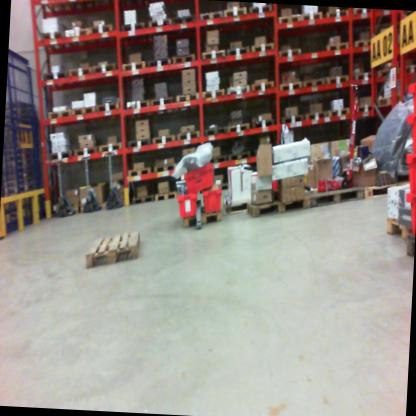pallet: (84, 222, 143, 281), (245, 189, 310, 225), (301, 179, 364, 214), (359, 168, 407, 208), (224, 115, 273, 137), (35, 26, 69, 56), (179, 210, 224, 230), (173, 89, 200, 119), (38, 65, 68, 92), (148, 90, 174, 121), (124, 94, 152, 122), (94, 97, 122, 125), (60, 22, 88, 50), (67, 100, 100, 123), (221, 193, 249, 220), (375, 89, 409, 111), (36, 0, 77, 18), (85, 21, 117, 44), (169, 48, 198, 73), (383, 212, 406, 243), (199, 85, 227, 110), (274, 109, 305, 131), (66, 60, 92, 85), (371, 66, 405, 85), (89, 59, 117, 82), (323, 34, 349, 58), (144, 54, 174, 74), (225, 43, 251, 66), (45, 102, 72, 124), (116, 17, 147, 36), (325, 104, 354, 124), (249, 77, 275, 99), (171, 12, 199, 32), (279, 44, 303, 67), (197, 5, 226, 24), (250, 39, 278, 58), (300, 7, 324, 29), (72, 142, 97, 163), (223, 4, 249, 24), (276, 7, 302, 27), (115, 57, 145, 74), (225, 80, 251, 99), (124, 163, 151, 181), (48, 147, 75, 165), (152, 161, 178, 179), (145, 14, 172, 31), (152, 131, 176, 150), (125, 134, 152, 150), (227, 147, 251, 165), (305, 108, 329, 126), (247, 4, 277, 18), (199, 49, 226, 64), (355, 98, 374, 119), (96, 140, 122, 155), (326, 73, 351, 88), (326, 9, 350, 24), (203, 122, 226, 137), (281, 79, 301, 96), (303, 73, 327, 87), (154, 190, 176, 204), (351, 68, 370, 84), (176, 129, 201, 140), (405, 59, 416, 84), (352, 36, 370, 51), (130, 192, 154, 203), (210, 153, 228, 166), (405, 234, 413, 259), (352, 10, 370, 18), (219, 180, 232, 191)
pallet_truck: (46, 150, 78, 214), (77, 147, 104, 217), (99, 145, 127, 211)
small_load_carrier: (181, 159, 213, 193), (196, 183, 226, 216), (400, 148, 416, 194), (401, 111, 416, 158), (399, 192, 416, 232), (402, 71, 416, 116), (176, 188, 193, 219)
